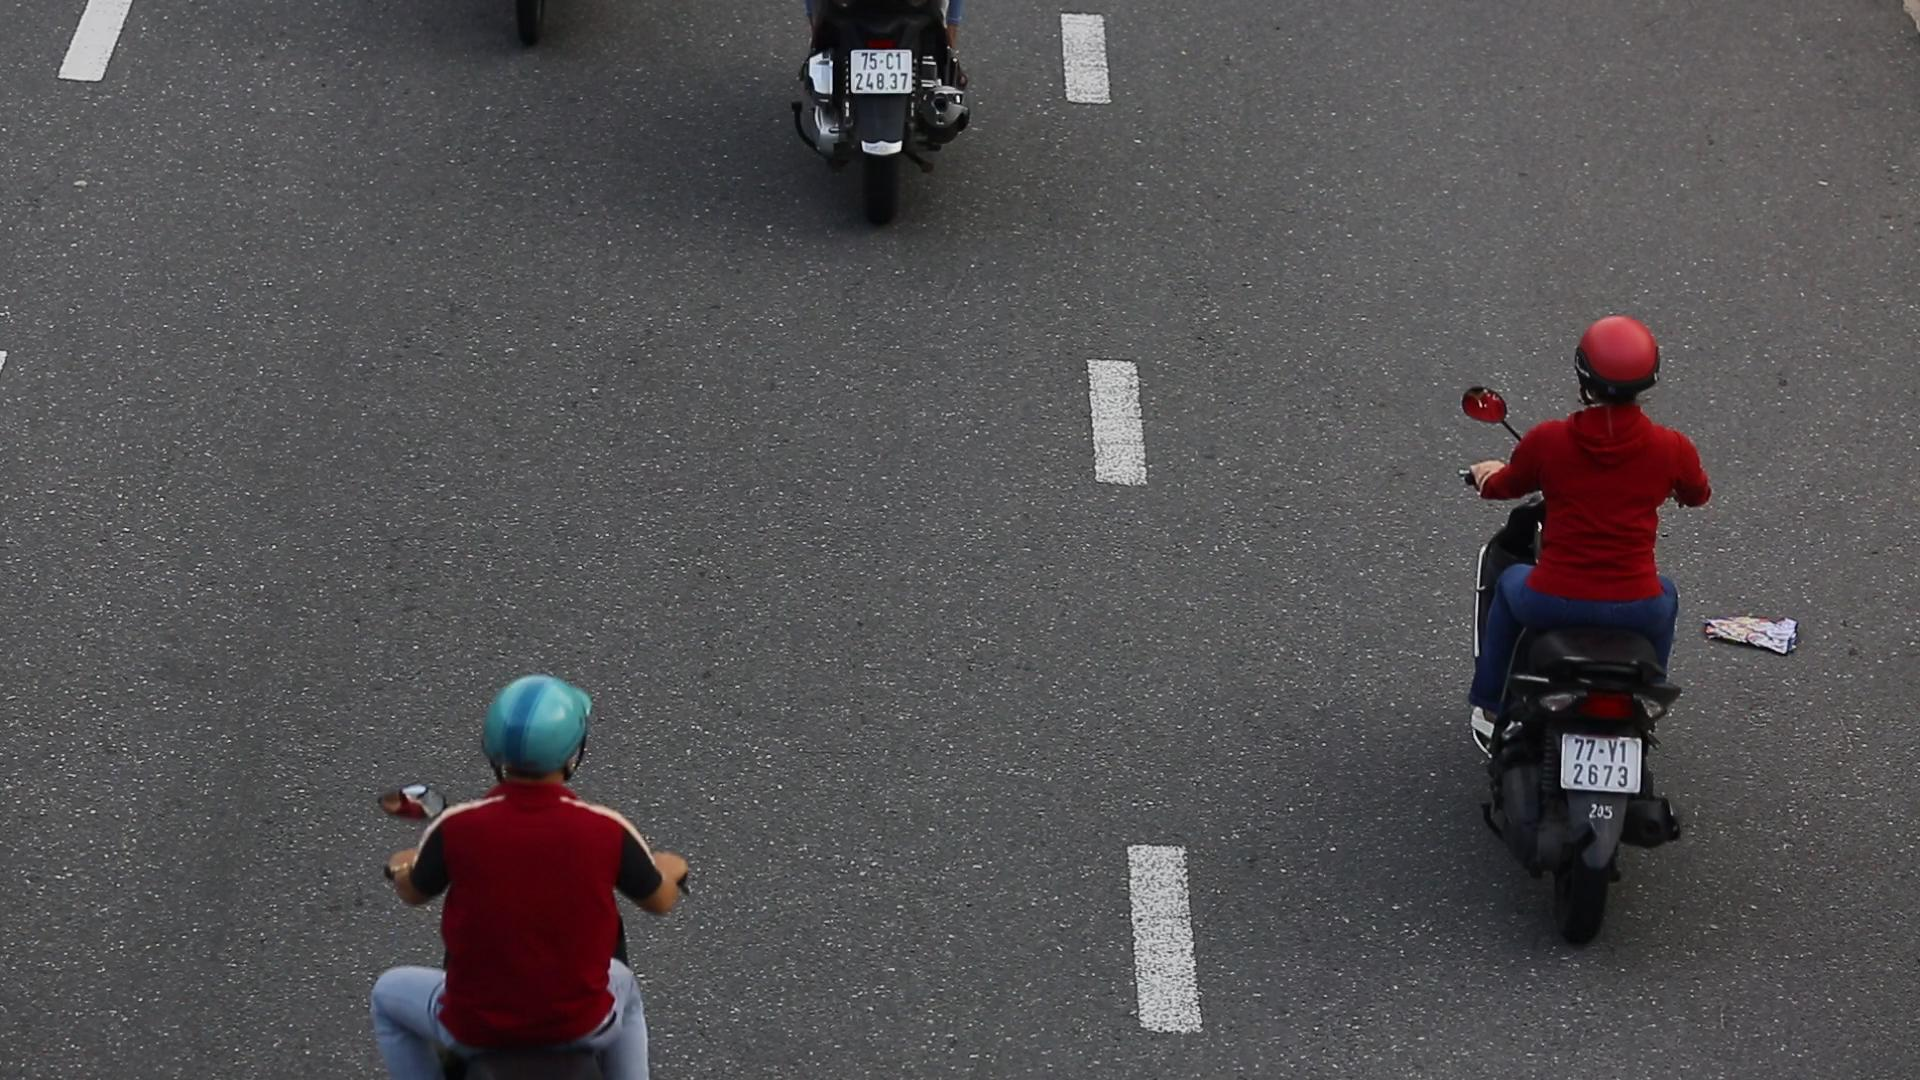motobike: (1445, 294, 1725, 956)
